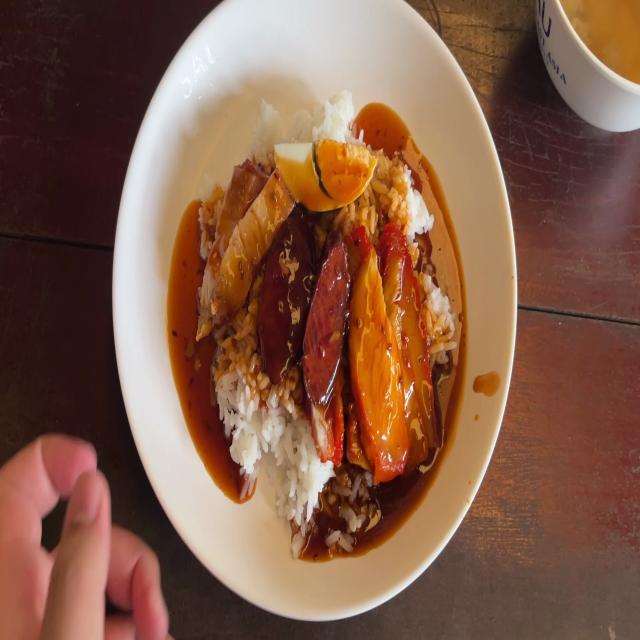red_pork_and_crispy_pork: (272, 139, 379, 209)
stir_fried_basil: (273, 218, 347, 381), (260, 212, 311, 362), (303, 236, 347, 386)
